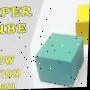cube: (35, 33, 84, 89)
